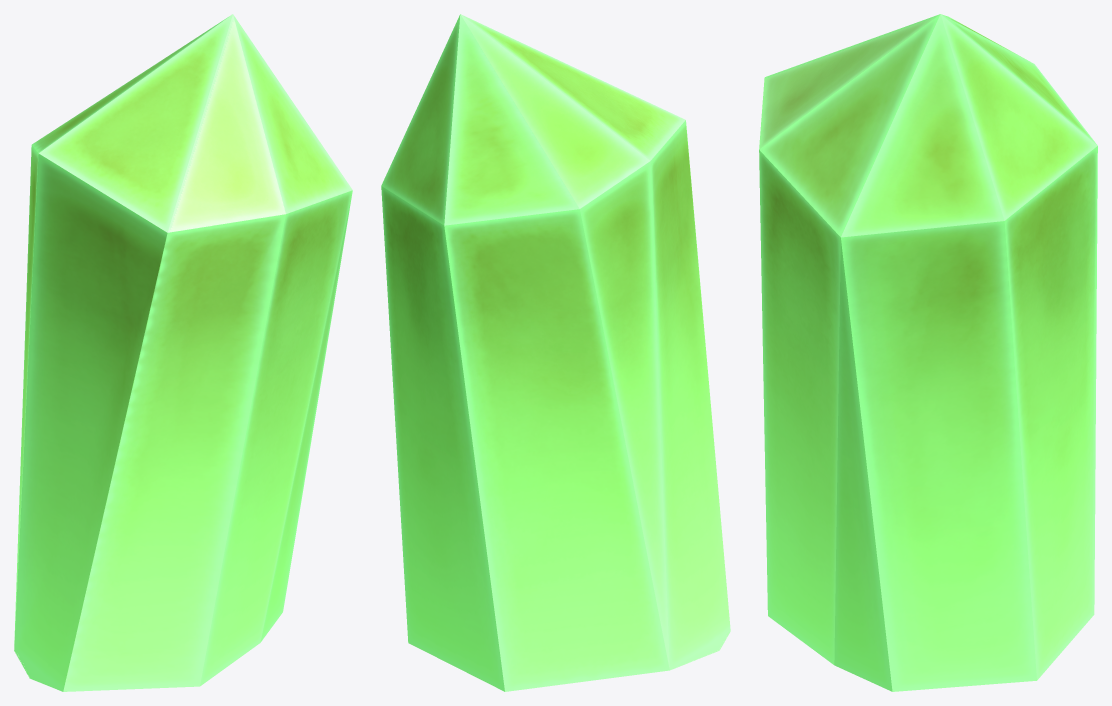
File: crystal_piece_001.fbx
3 renders of one model, left to right at view 1: azimuth 30°, elevation 25°; view 2: azimuth 150°, elevation 25°; view 3: azimuth 270°, elevation 25°, orthographic. The views are drawn at different scales.
Visible parts, largest first — view 1: crystal_piece_001; view 2: crystal_piece_001; view 3: crystal_piece_001.
Part boxes in pixels (<box>): crystal_piece_001: <box>14,14,352,691</box>; crystal_piece_001: <box>381,14,730,691</box>; crystal_piece_001: <box>759,14,1097,691</box>.
Bounding box in the file's own units: 0.8444 × 1.56 × 0.7236.
